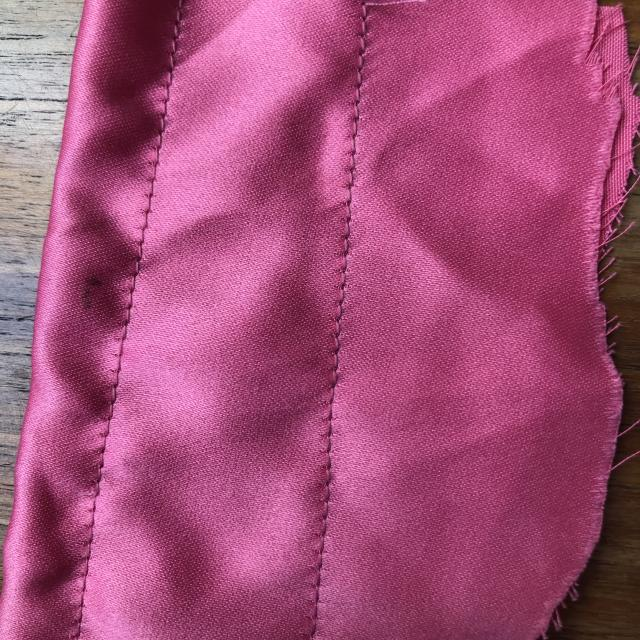good: (323, 250, 356, 382)
